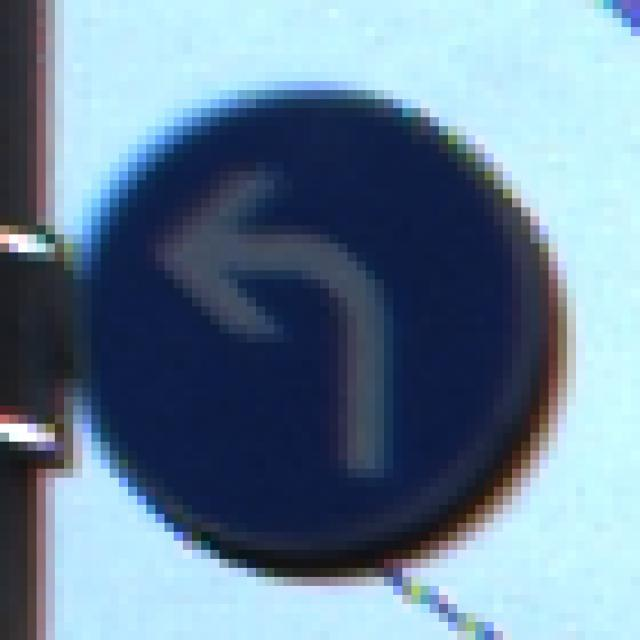compulsary turn left ahead: (76, 91, 556, 560)
